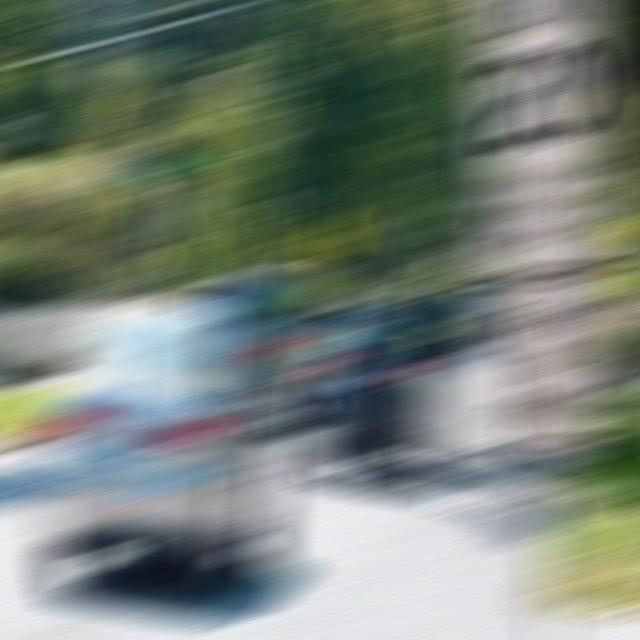speedLimit20: (474, 3, 610, 162)
